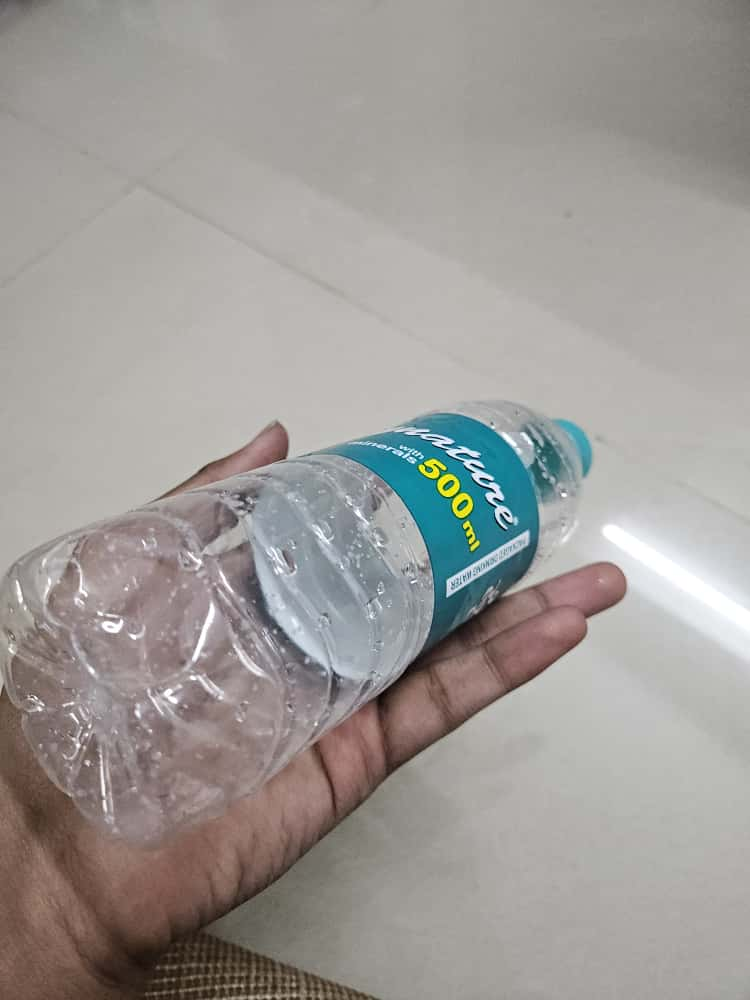dry: (1, 309, 658, 844)
